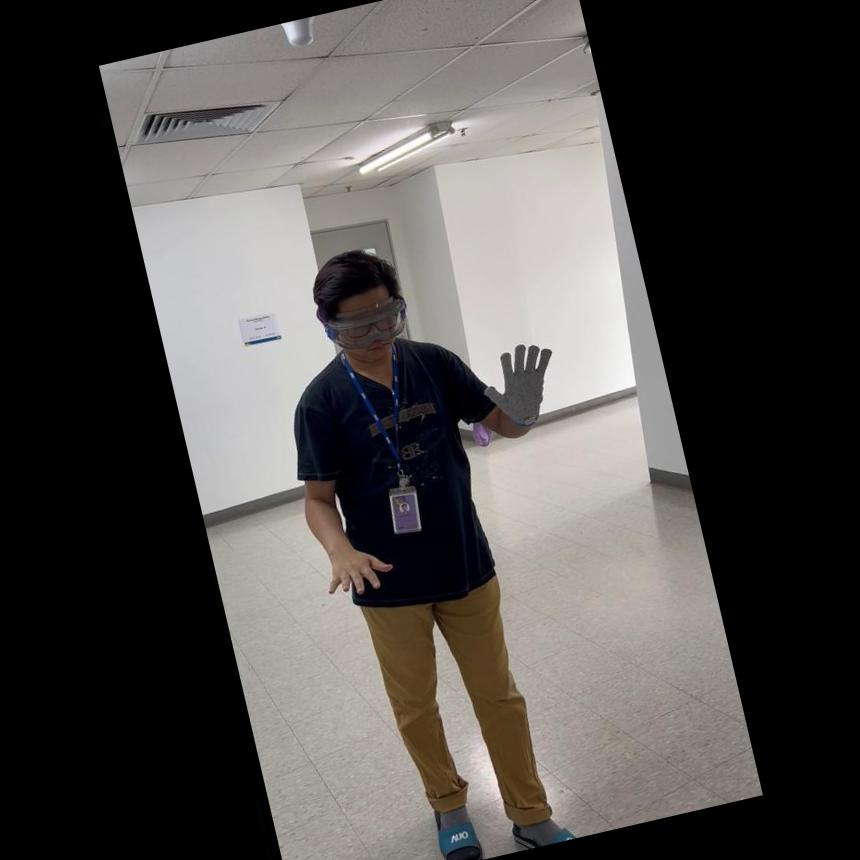Gloves: (469, 331, 565, 433)
No-gloves: (312, 526, 396, 602)
